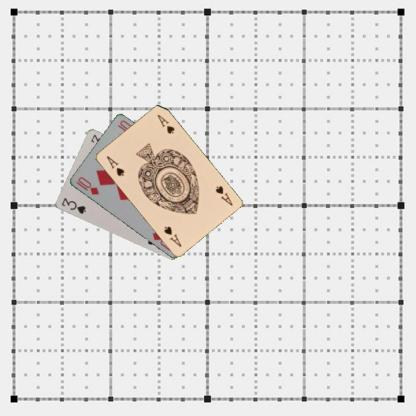10d: (73, 174, 100, 196)
3s: (58, 196, 87, 216)
As: (104, 153, 125, 177), (212, 183, 233, 207)
